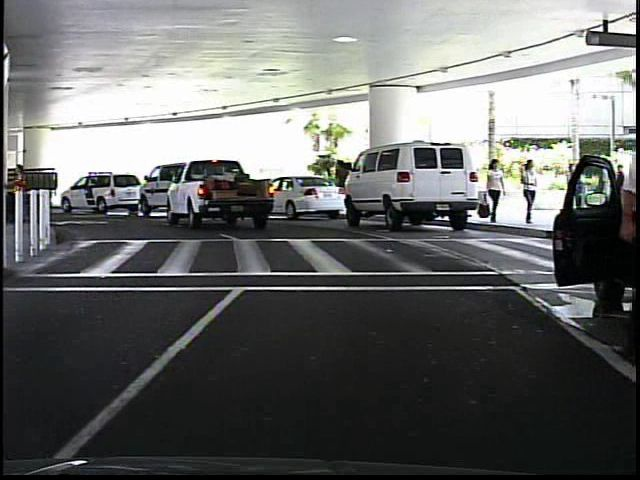person: (513, 157, 539, 228), (331, 155, 353, 216), (482, 157, 501, 227)
